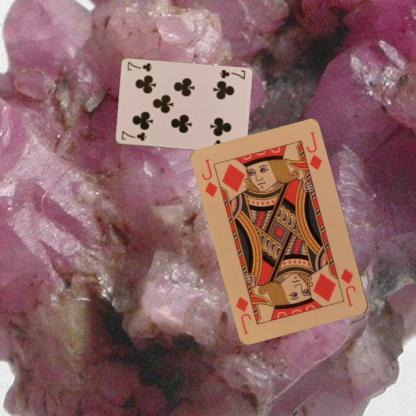7c: (217, 67, 246, 81), (119, 128, 147, 142)
Jd: (198, 156, 219, 198), (338, 266, 358, 308)
